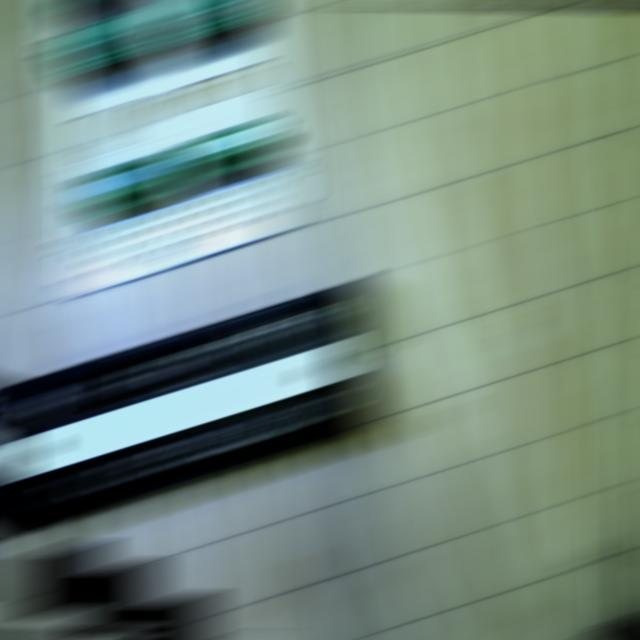Flathead_Block: (0, 283, 402, 536)
Terminal_1: (75, 154, 179, 213), (174, 120, 276, 180)
Terminal_2: (49, 11, 153, 69)
